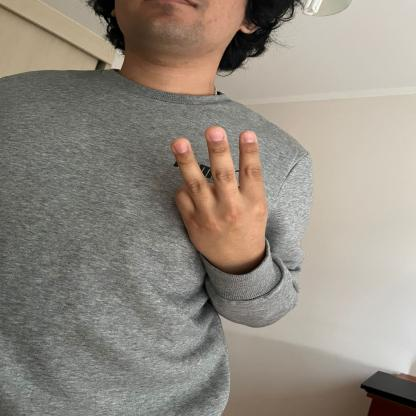W: (168, 120, 272, 273)
